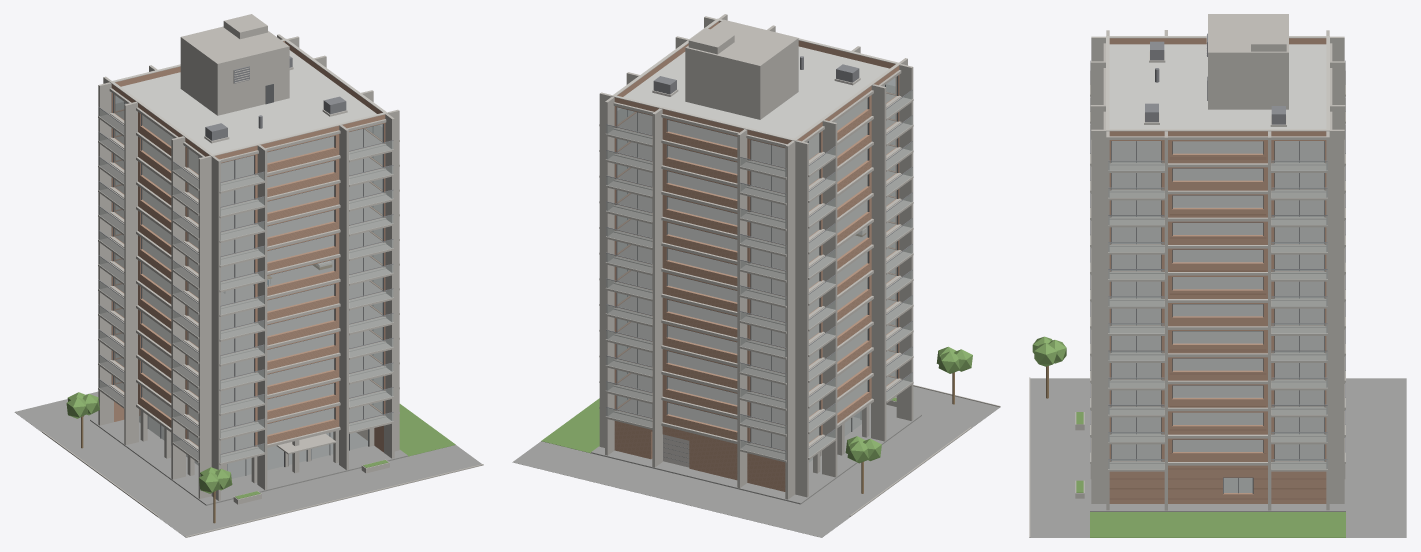
The model's file is clay-slab-balcony-tower-clay-v001.glb.
3 views of the same model, side by side, from view 1: azimuth 30°, elevation 25°; view 2: azimuth 150°, elevation 25°; view 3: azimuth 270°, elevation 25° (orthographic). The views are drawn at different scales.
Parts seen in each view (by area): view 1: CLAY_CONCRETE, CLAY_GLASS, CLAY_FLOOR, CLAY_WALL, CLAY_FOUNDATION, CLAY_MEMBRANE, CLAY_HARDWARE, CLAY_PLANTING, CLAY_TRIM, CLAY_PALE, CLAY_STONE, CLAY_JOINT; view 2: CLAY_CONCRETE, CLAY_GLASS, CLAY_FLOOR, CLAY_WALL, CLAY_FOUNDATION, CLAY_MEMBRANE, CLAY_HARDWARE, CLAY_PLANTING, CLAY_TRIM, CLAY_PALE, CLAY_JOINT; view 3: CLAY_CONCRETE, CLAY_GLASS, CLAY_FLOOR, CLAY_WALL, CLAY_FOUNDATION, CLAY_MEMBRANE, CLAY_PLANTING, CLAY_HARDWARE, CLAY_JOINT, CLAY_TRIM, CLAY_PALE.
Part boxes in pixels (x1,y1,x2,y2): CLAY_CONCRETE: (98,14,399,504); CLAY_GLASS: (98,94,393,478); CLAY_FLOOR: (115,111,382,453); CLAY_WALL: (111,41,385,454); CLAY_FOUNDATION: (14,391,481,537); CLAY_MEMBRANE: (121,50,376,153); CLAY_HARDWARE: (98,56,393,454); CLAY_PLANTING: (66,392,455,499); CLAY_TRIM: (113,84,383,475); CLAY_PALE: (110,38,388,265); CLAY_STONE: (42,431,483,537); CLAY_JOINT: (139,130,337,442); CLAY_CONCRETE: (599,14,913,499); CLAY_GLASS: (606,76,912,462); CLAY_FLOOR: (618,94,895,450); CLAY_WALL: (614,21,899,491); CLAY_FOUNDATION: (512,386,1000,537); CLAY_MEMBRANE: (623,46,889,138); CLAY_HARDWARE: (606,56,912,462); CLAY_PLANTING: (541,346,972,463); CLAY_TRIM: (616,76,897,446); CLAY_PALE: (611,18,901,467); CLAY_JOINT: (614,110,870,491); CLAY_CONCRETE: (1075,14,1345,510); CLAY_GLASS: (1090,141,1345,492); CLAY_FLOOR: (1111,141,1324,460); CLAY_WALL: (1109,38,1326,503); CLAY_FOUNDATION: (1030,378,1406,537); CLAY_MEMBRANE: (1109,44,1326,128); CLAY_PLANTING: (1032,336,1345,537); CLAY_HARDWARE: (1090,33,1345,459); CLAY_JOINT: (1109,157,1326,499); CLAY_TRIM: (1111,76,1324,493); CLAY_PALE: (1106,35,1329,131).
Size of the model in its own units: 37.36 by 47 by 37.2.
